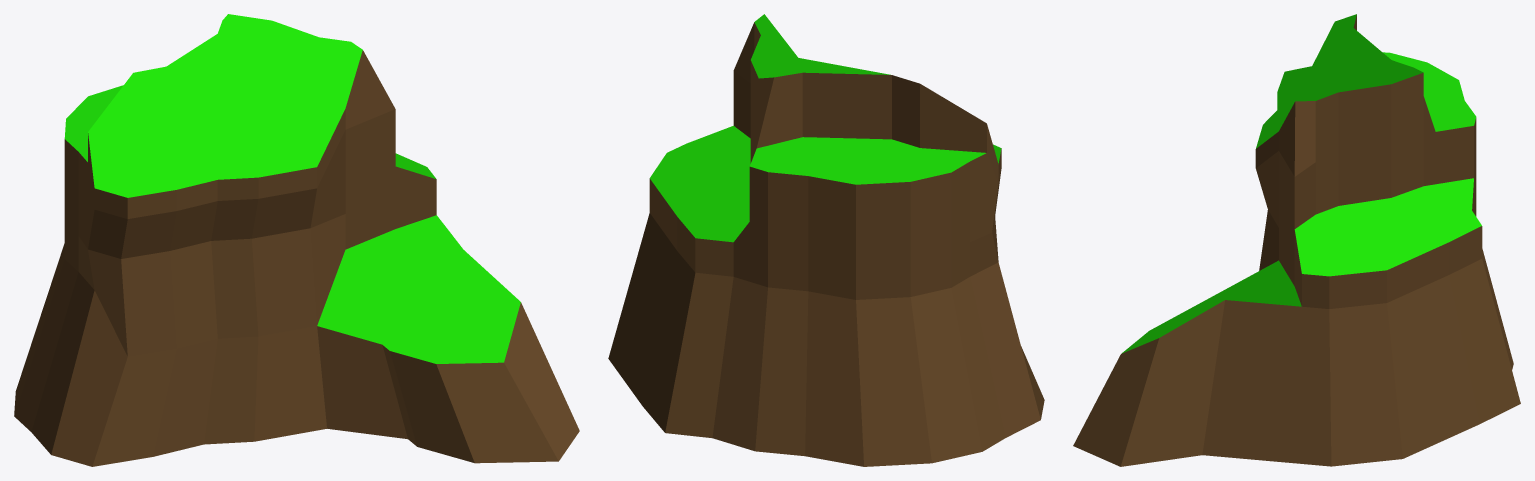
The model's file is Cliff3.fbx.
3 views of the same model, side by side, from view 1: azimuth 30°, elevation 25°; view 2: azimuth 150°, elevation 25°; view 3: azimuth 270°, elevation 25° (orthographic). The views are drawn at different scales.
Parts seen in each view (by area): view 1: Plane; view 2: Plane; view 3: Plane.
Part boxes in pixels (left/top/right/bottom): Plane: left=14, top=14, right=579, bottom=466; Plane: left=608, top=14, right=1044, bottom=466; Plane: left=1073, top=14, right=1520, bottom=466.
Bounding box in the file's own units: 202 × 156 × 204.
